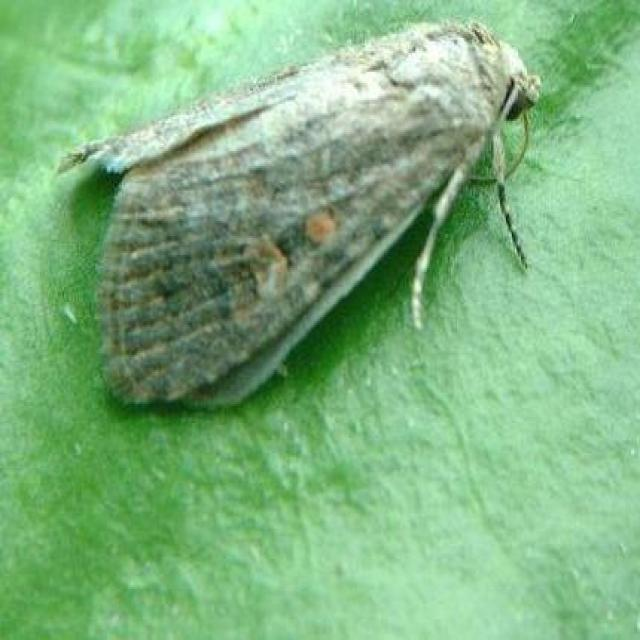armyworm: (66, 16, 563, 440)
